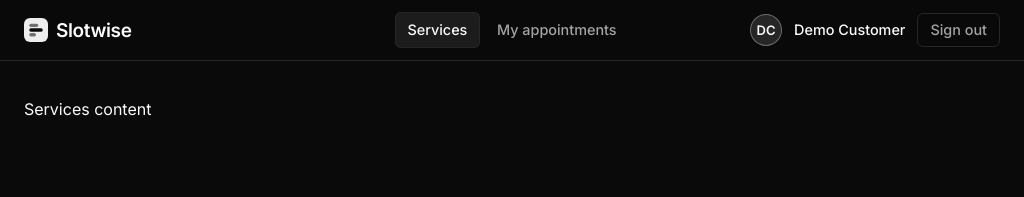
Test: AppLayout › shows an alert when logout fails
Click the button "Sign out" at {"x": 959, "y": 30}, box top-left (917, 13), bottom-right (1000, 47)
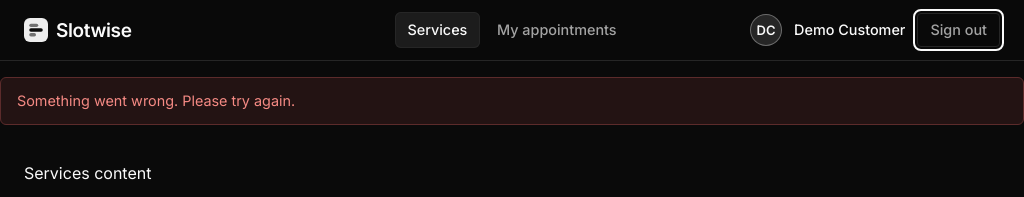
Check: the message "Something went wrong. Please try again." is shown, box top-left (0, 77), bottom-right (1023, 125)
